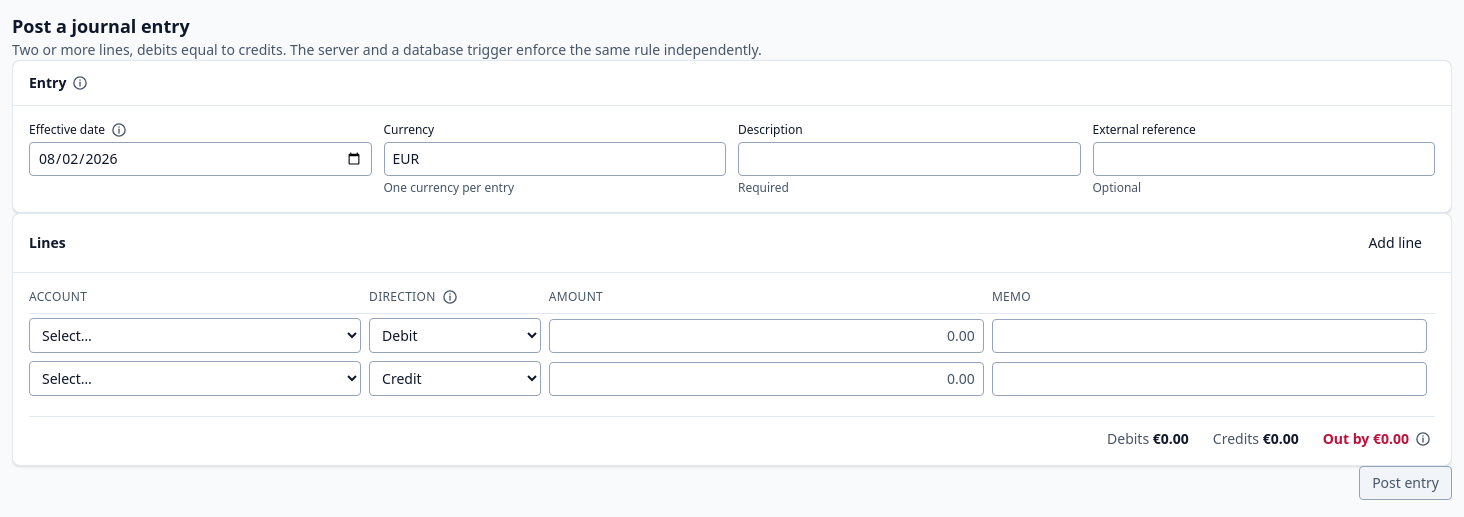
it: posting an entry › flags an amount that is not a number rather than treating it as zero
Select "1000 · Cash at Bank" in the dropdown named "Account for line 1" at (195, 336), box left=29, top=318, right=361, bottom=353
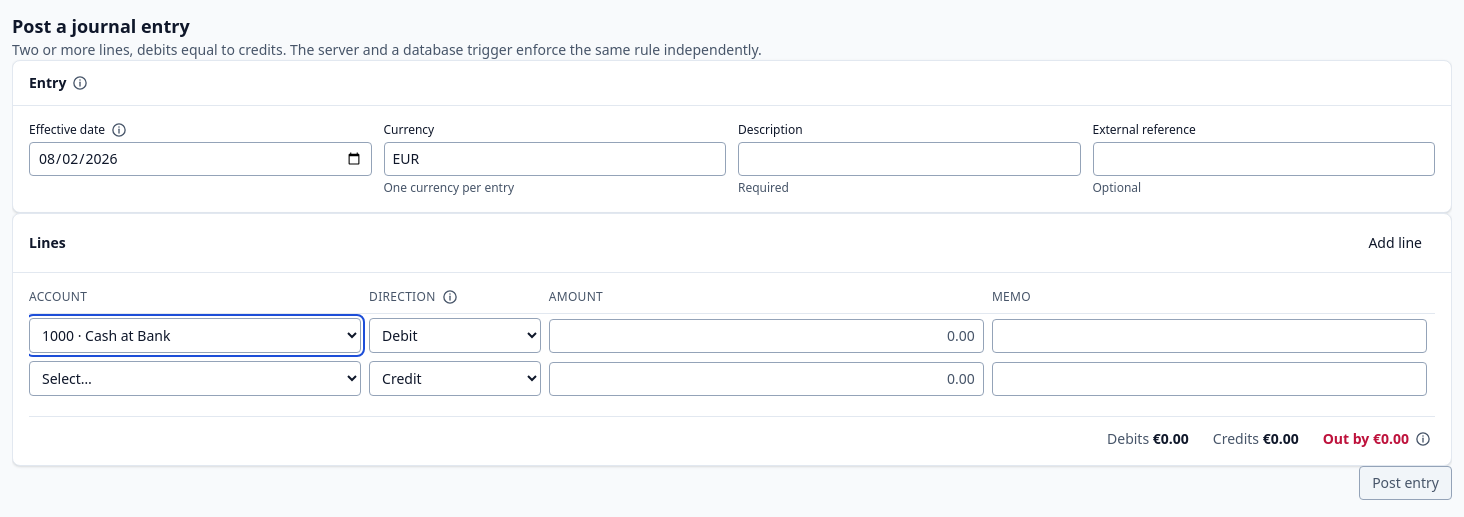
Type "abc" into the field named "Amount for line 1".
click(766, 336); type("abc")  # box left=549, top=318, right=984, bottom=352
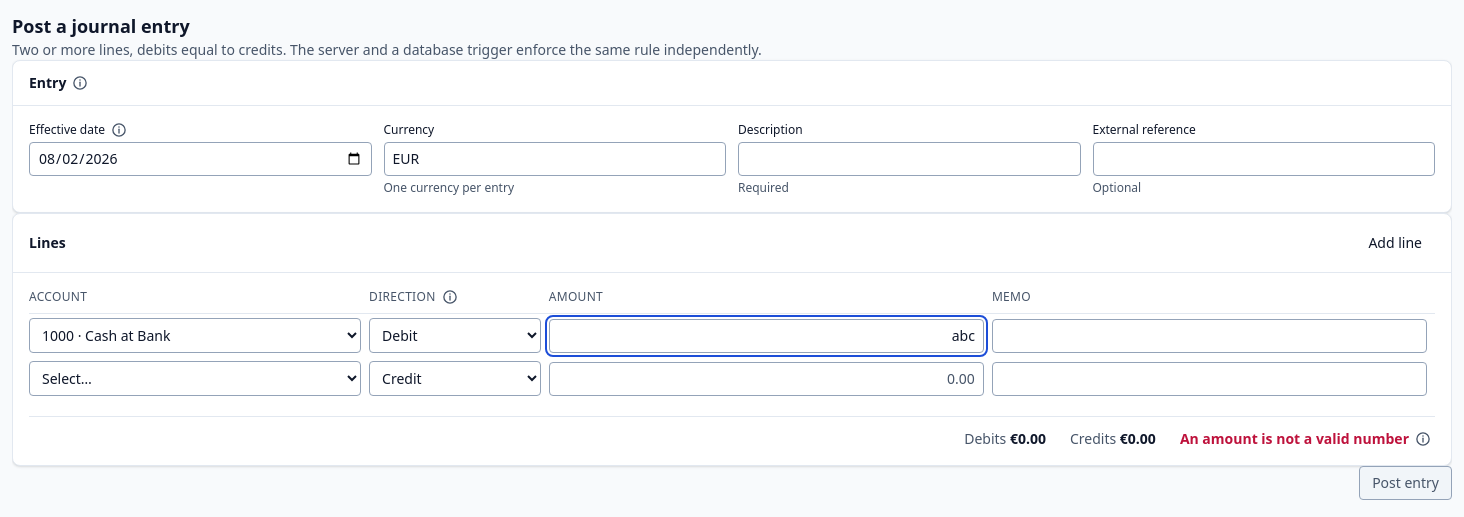
Result: the text "An amount is not a valid number" is shown at left=1180, top=429, right=1409, bottom=449
